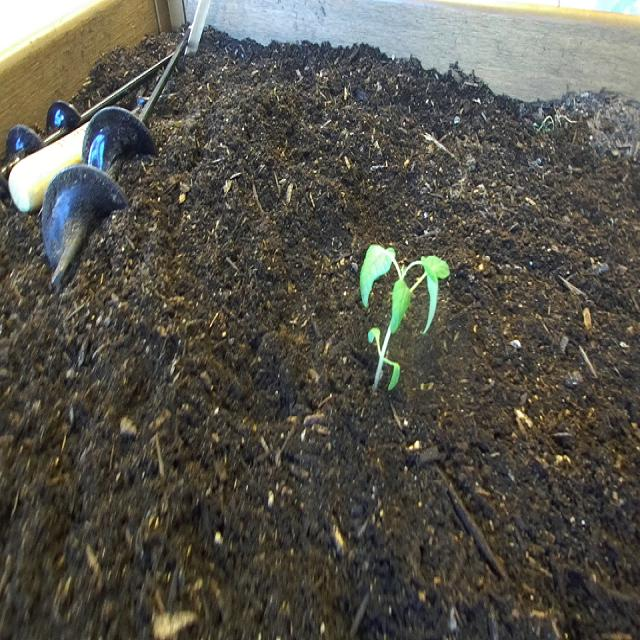Healthy: (352, 235, 450, 408)
